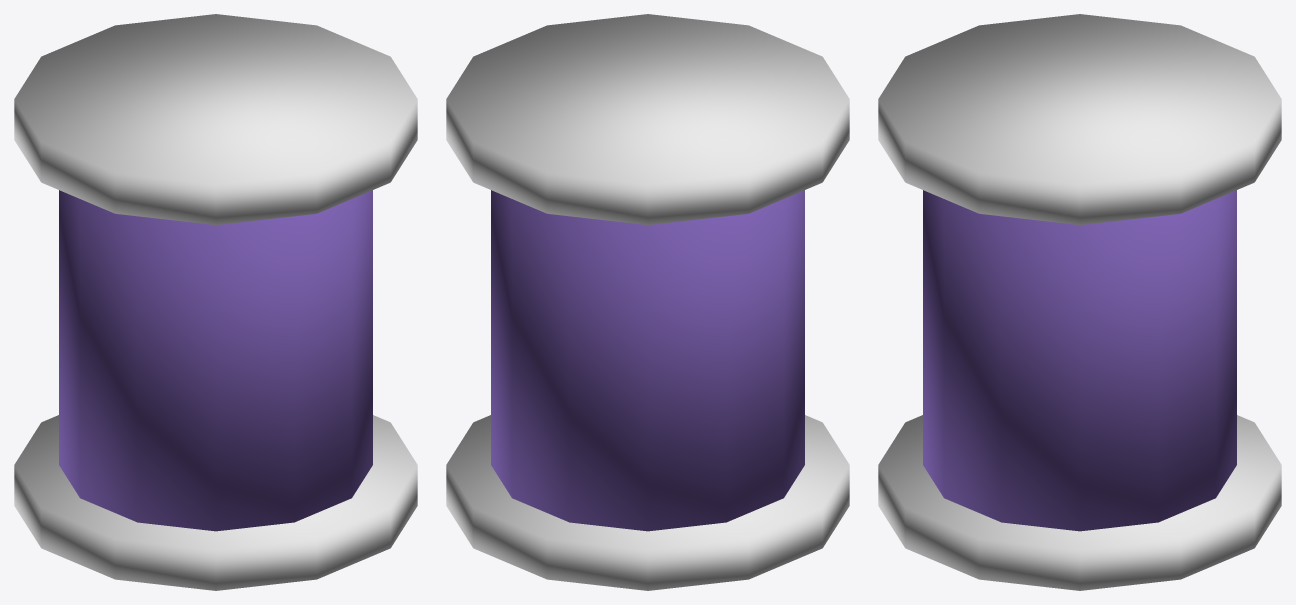
The model's file is worm_scarf.glb.
The picture shows the model from 3 angles, left to right: view 1: azimuth 30°, elevation 25°; view 2: azimuth 150°, elevation 25°; view 3: azimuth 270°, elevation 25°; orthographic projection.
Parts seen in each view (by area): view 1: worm_scarf_v0; view 2: worm_scarf_v0; view 3: worm_scarf_v0.
Boxes of the visible parts, <box> form: worm_scarf_v0: <box>14,14,417,590</box>; worm_scarf_v0: <box>446,14,849,590</box>; worm_scarf_v0: <box>878,14,1281,590</box>.
Bounding box in the file's own units: 0.18 × 0.2 × 0.18.
